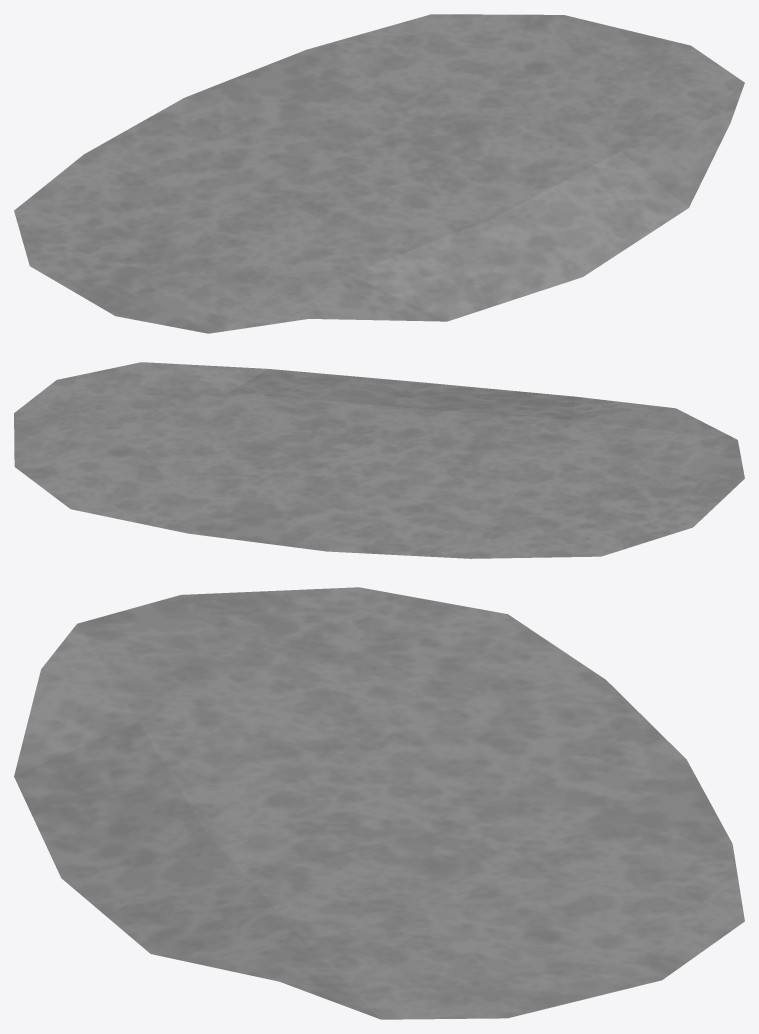
The model's file is Dolmen2Ground.gltf.
3 renders of one model, top to bottom at view 1: azimuth 30°, elevation 25°; view 2: azimuth 150°, elevation 25°; view 3: azimuth 270°, elevation 25°, orthographic. The views are drawn at different scales.
Visible parts, largest first — view 1: Ground.001; view 2: Ground.001; view 3: Ground.001.
Part boxes in pixels (bbox=[...]): Ground.001: bbox=[14, 14, 744, 333]; Ground.001: bbox=[14, 362, 744, 558]; Ground.001: bbox=[14, 587, 744, 1019].
Bounding box in the file's own units: 11.72 × 0.5116 × 8.37.
Materials: 1 (1 with a texture image).
